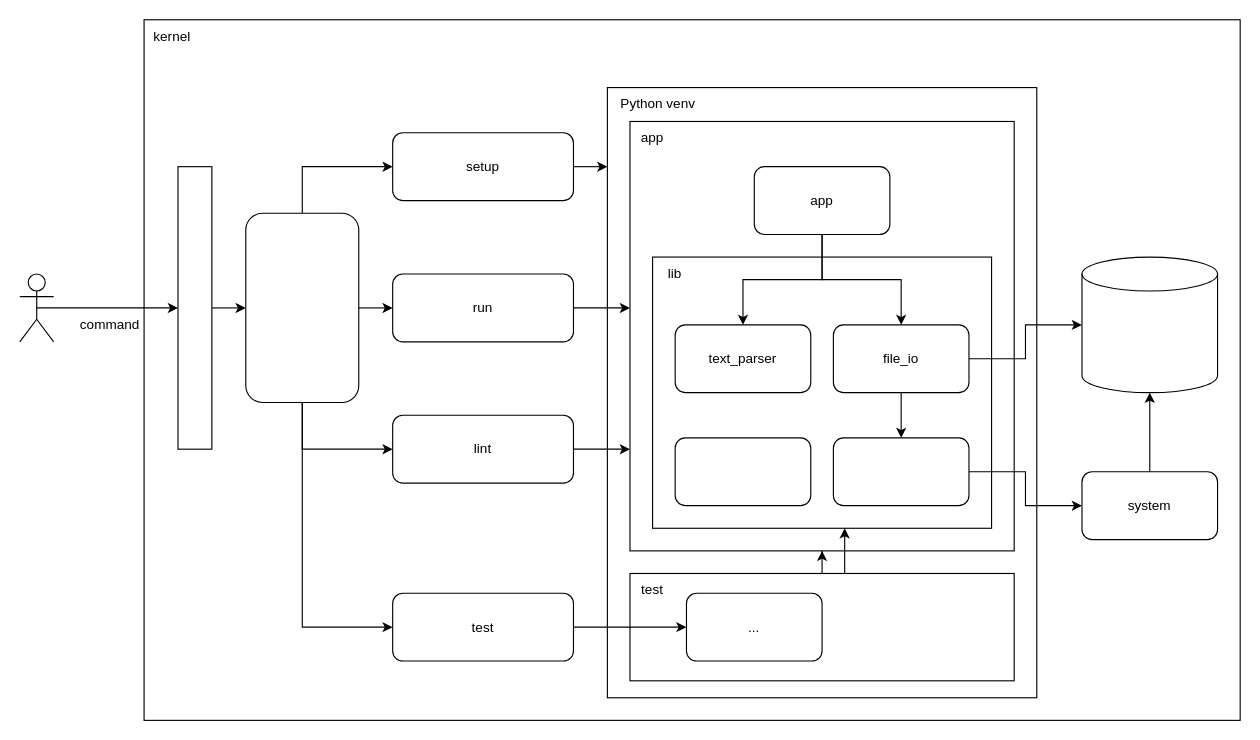
Image size: 1260x740. Some labels were removed from this diagram. Here are the shapes that lost their labels. From the top down, the centre of each, then its label:
At [36,307]: "User".
At [302,307]: "make".
At [1149,324]: "file system".
At [742,471]: "util".
At [900,471]: "sys".
